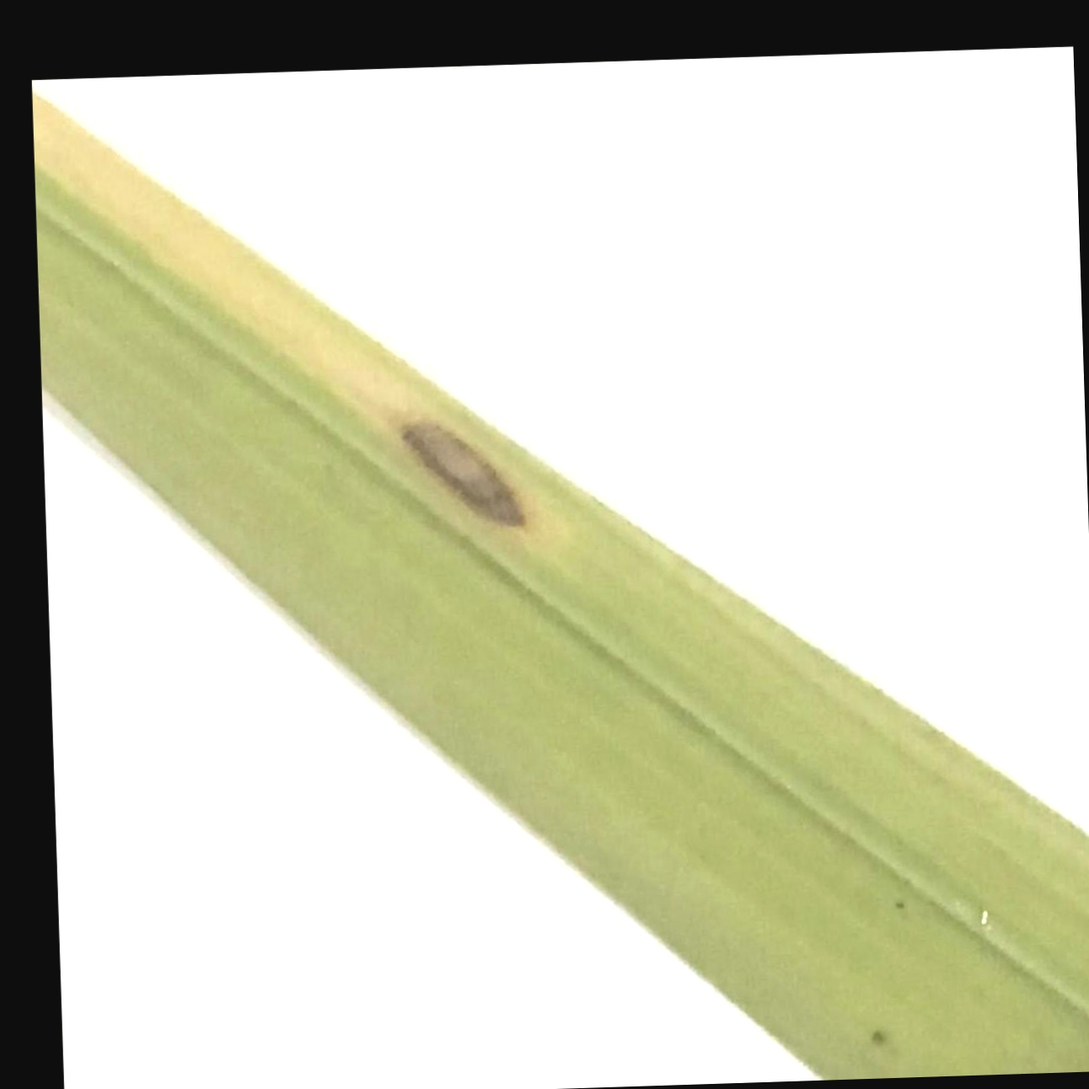Brown_Spot: (388, 385, 550, 561)
